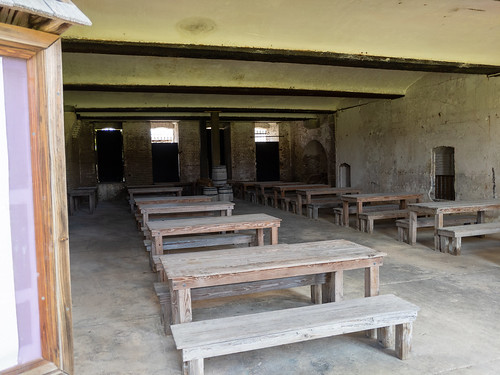bench: (172, 292, 422, 375), (434, 224, 500, 254), (357, 206, 406, 229)
table: (165, 242, 385, 312), (149, 210, 283, 247), (136, 197, 234, 217), (295, 182, 353, 202)
